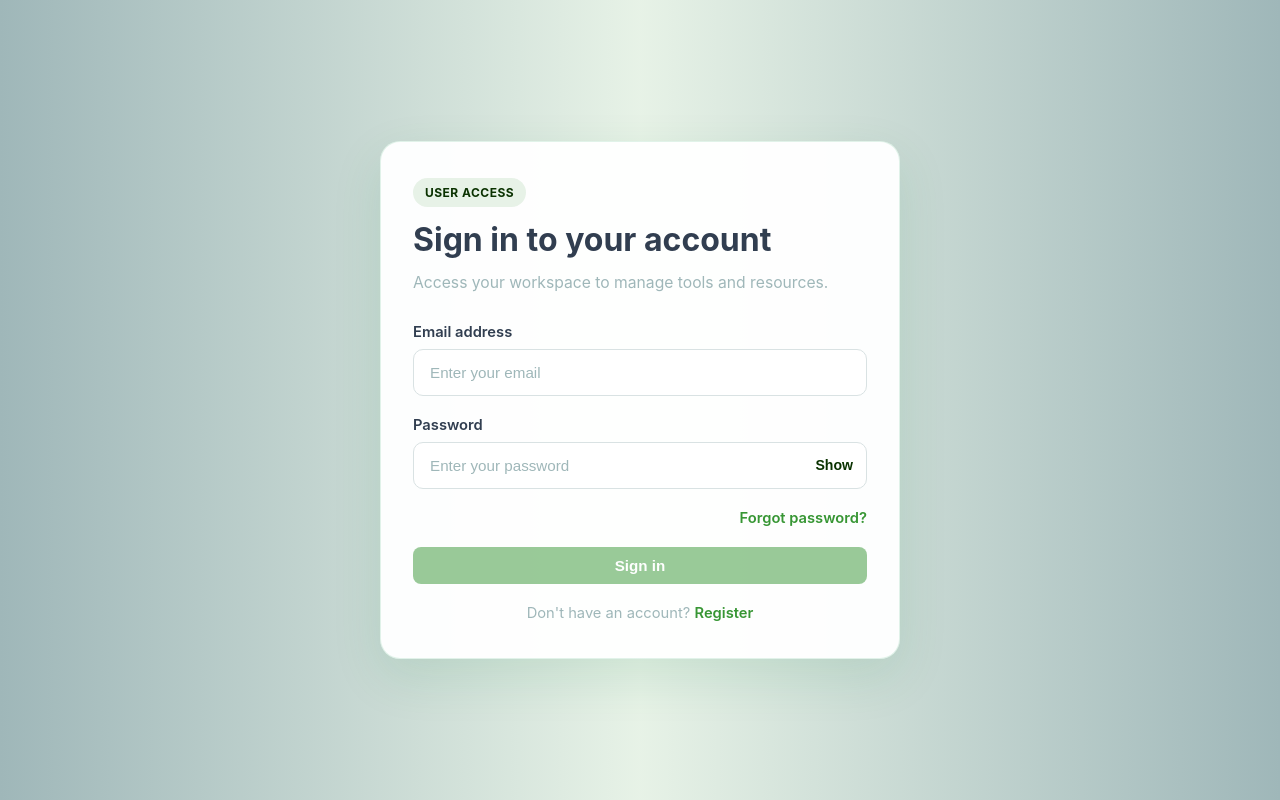
LoginPage › shows validation messages for empty fields
The image size is (1280, 800).
Click the field with placeholder "Enter your email".
click(640, 372)  # box [413,349,867,396]
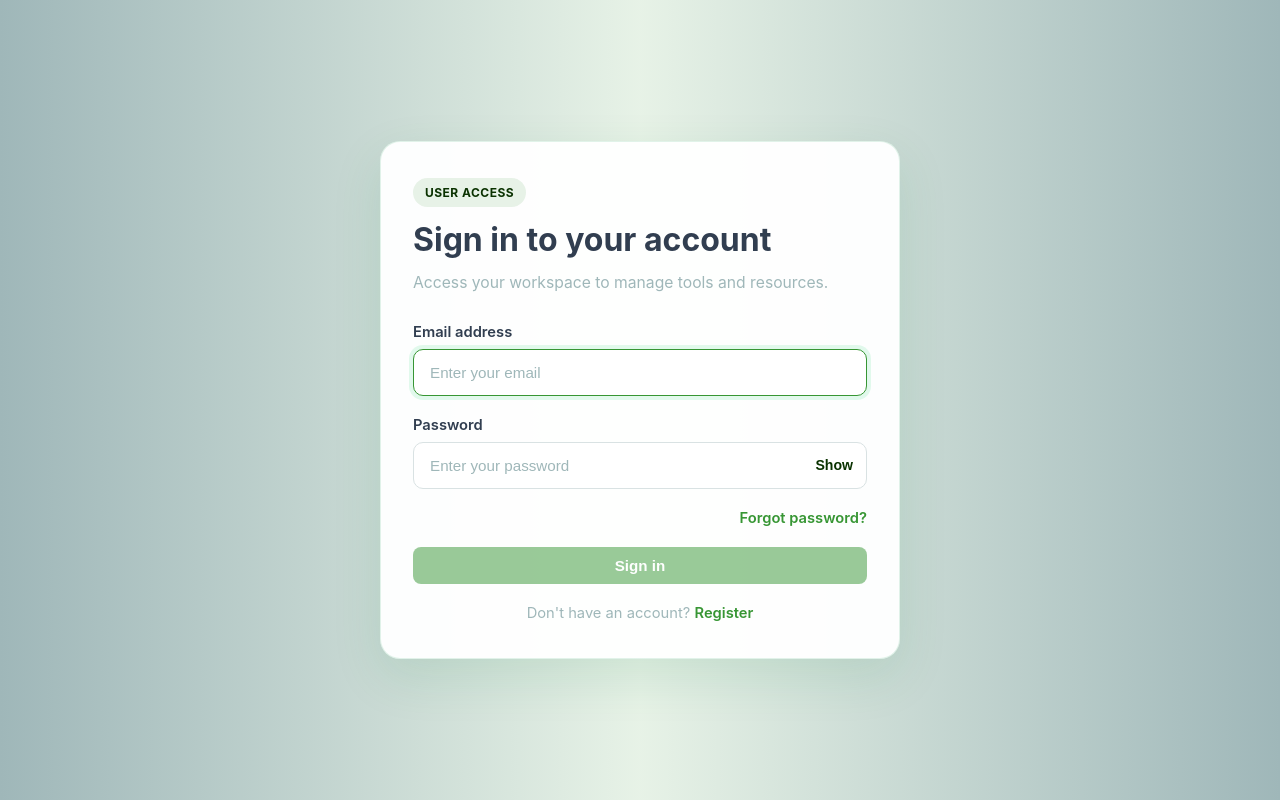
Press Tab
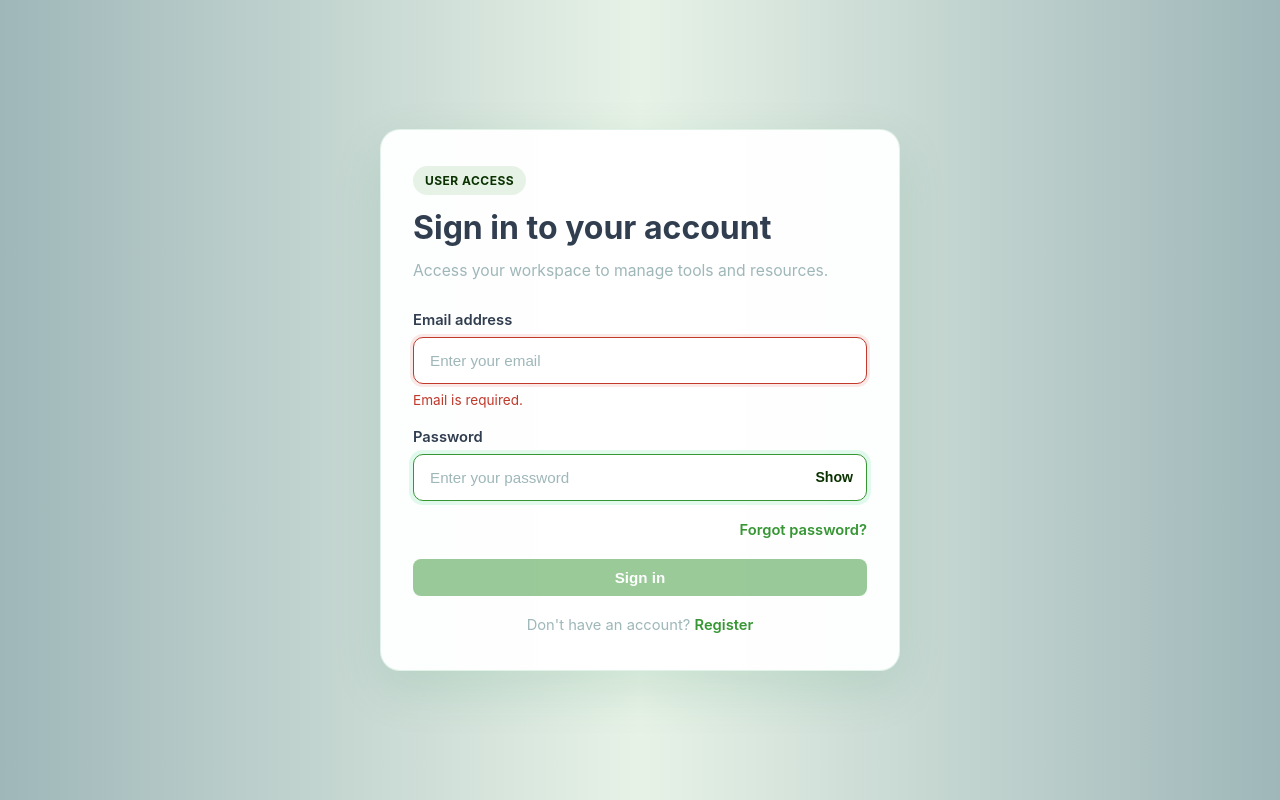
Press Tab
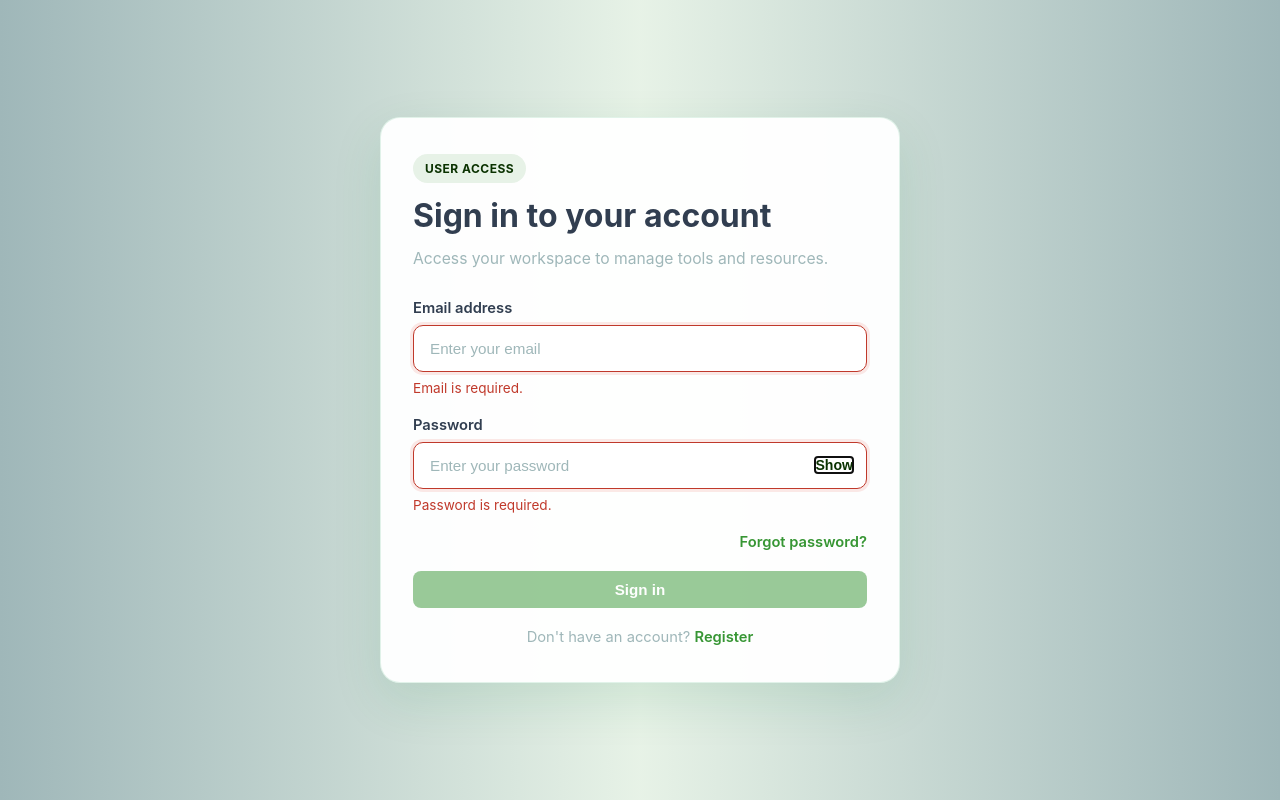
Now the text "Email is required." is shown, box [413,380,523,396]
Now the text "Password is required." is shown, box [413,497,552,513]
